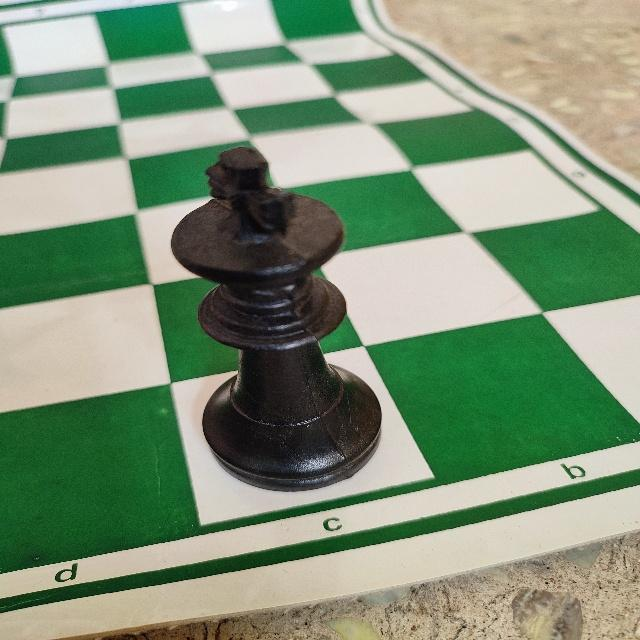King: (169, 143, 384, 495)
